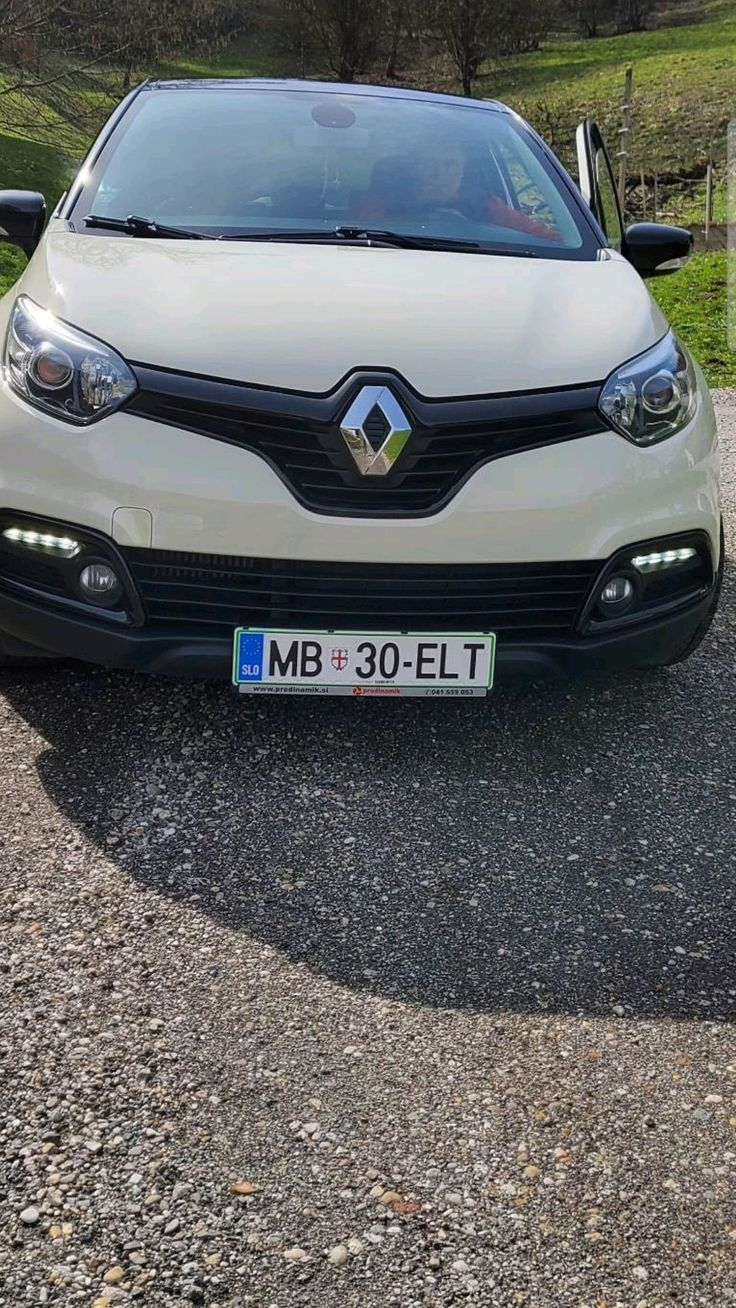plate: (232, 631, 500, 694)
